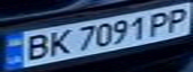0: (93, 20, 115, 48)
1: (127, 14, 151, 40)
7: (72, 22, 96, 52)
9: (109, 17, 133, 45)
B: (18, 30, 54, 62)
K: (42, 27, 75, 57)
P: (160, 6, 193, 34), (145, 9, 175, 37)
